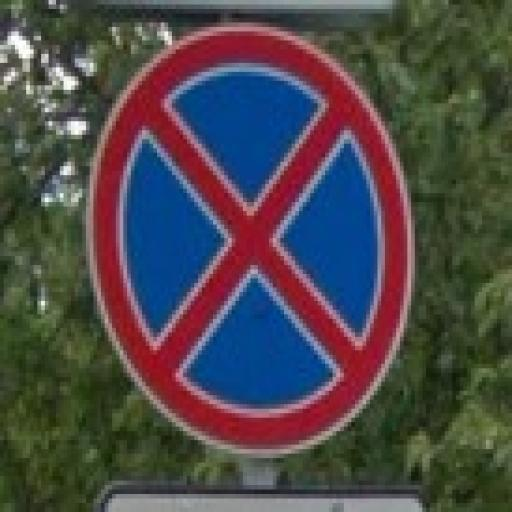traffic_sign: (83, 24, 420, 464)
